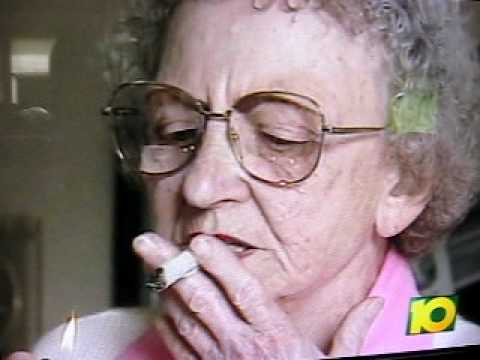cigarette: (138, 233, 216, 293)
